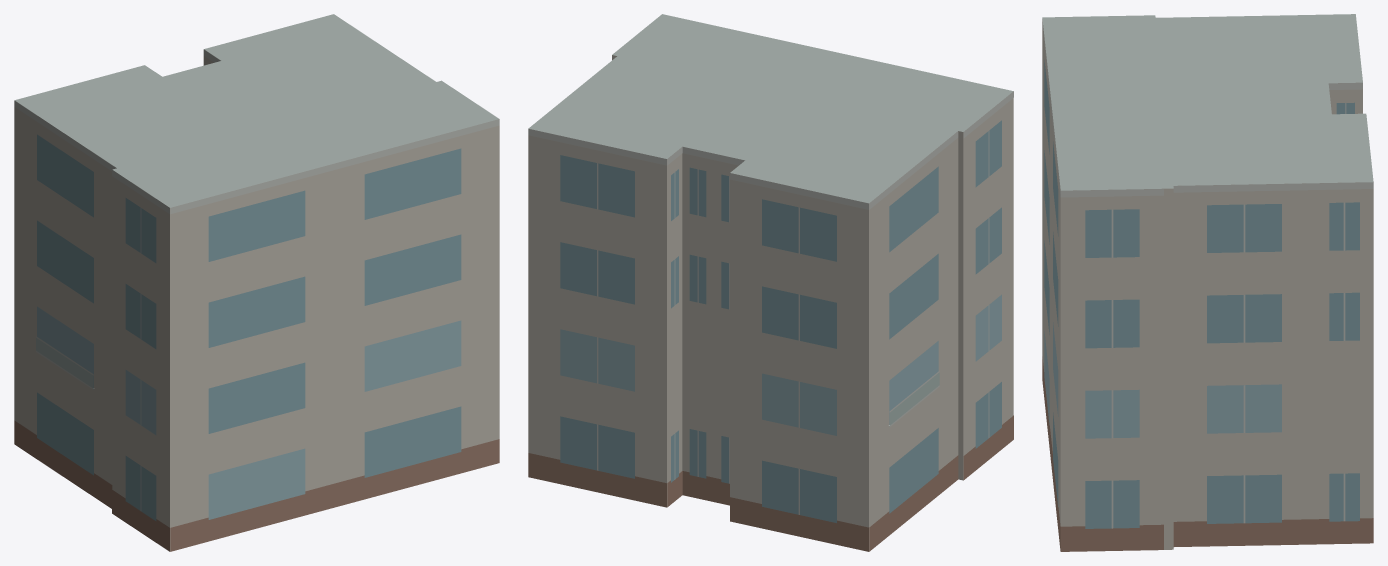
File: survey-upis-32954108.glb
3 renders of one model, left to right at view 1: azimuth 30°, elevation 25°; view 2: azimuth 150°, elevation 25°; view 3: azimuth 270°, elevation 25°, orthographic. The views are drawn at different scales.
Visible parts, largest first — view 1: survey-upis-32954108.tmp; view 2: survey-upis-32954108.tmp; view 3: survey-upis-32954108.tmp.
Part boxes in pixels (x1=…): survey-upis-32954108.tmp: x1=14, y1=14, x2=499, y2=551; survey-upis-32954108.tmp: x1=528, y1=14, x2=1013, y2=551; survey-upis-32954108.tmp: x1=1042, y1=14, x2=1373, y2=551.
Bounding box in the file's own units: 13.58 × 12.94 × 10.77.
